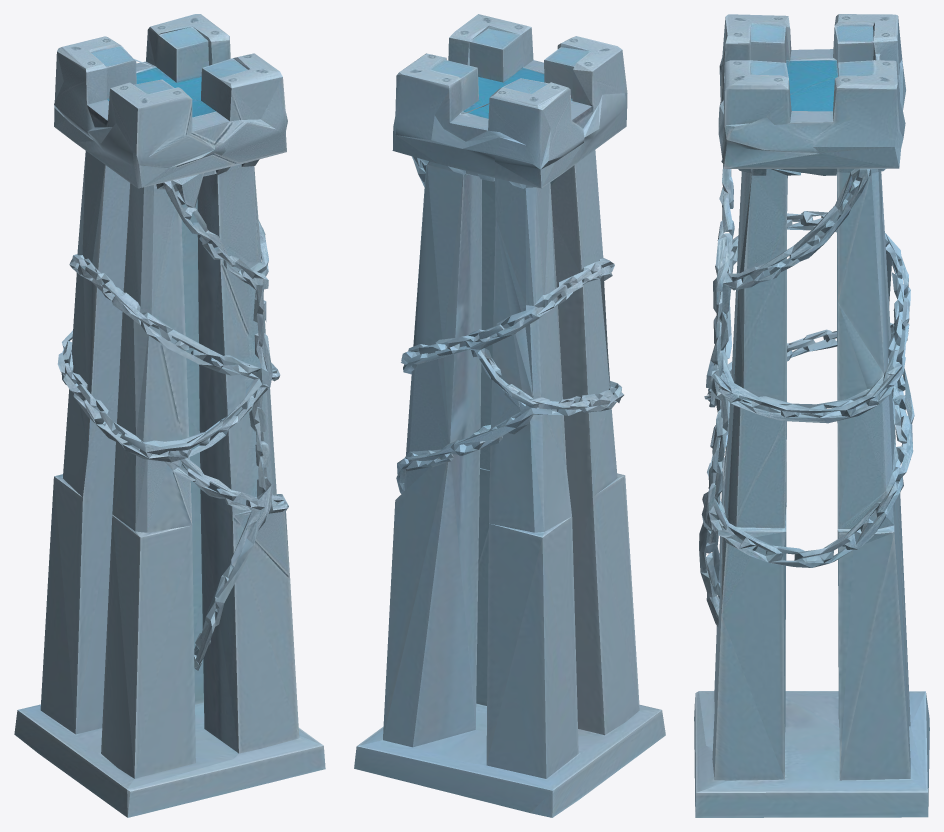
Rendered from chain-pylon.glb.
3 views of the same model, side by side, from view 1: azimuth 30°, elevation 25°; view 2: azimuth 150°, elevation 25°; view 3: azimuth 270°, elevation 25° (orthographic). The views are drawn at different scales.
Bounding box in the file's own units: 0.5742 × 1.9 × 0.5653.
1 material, 1 textured.
